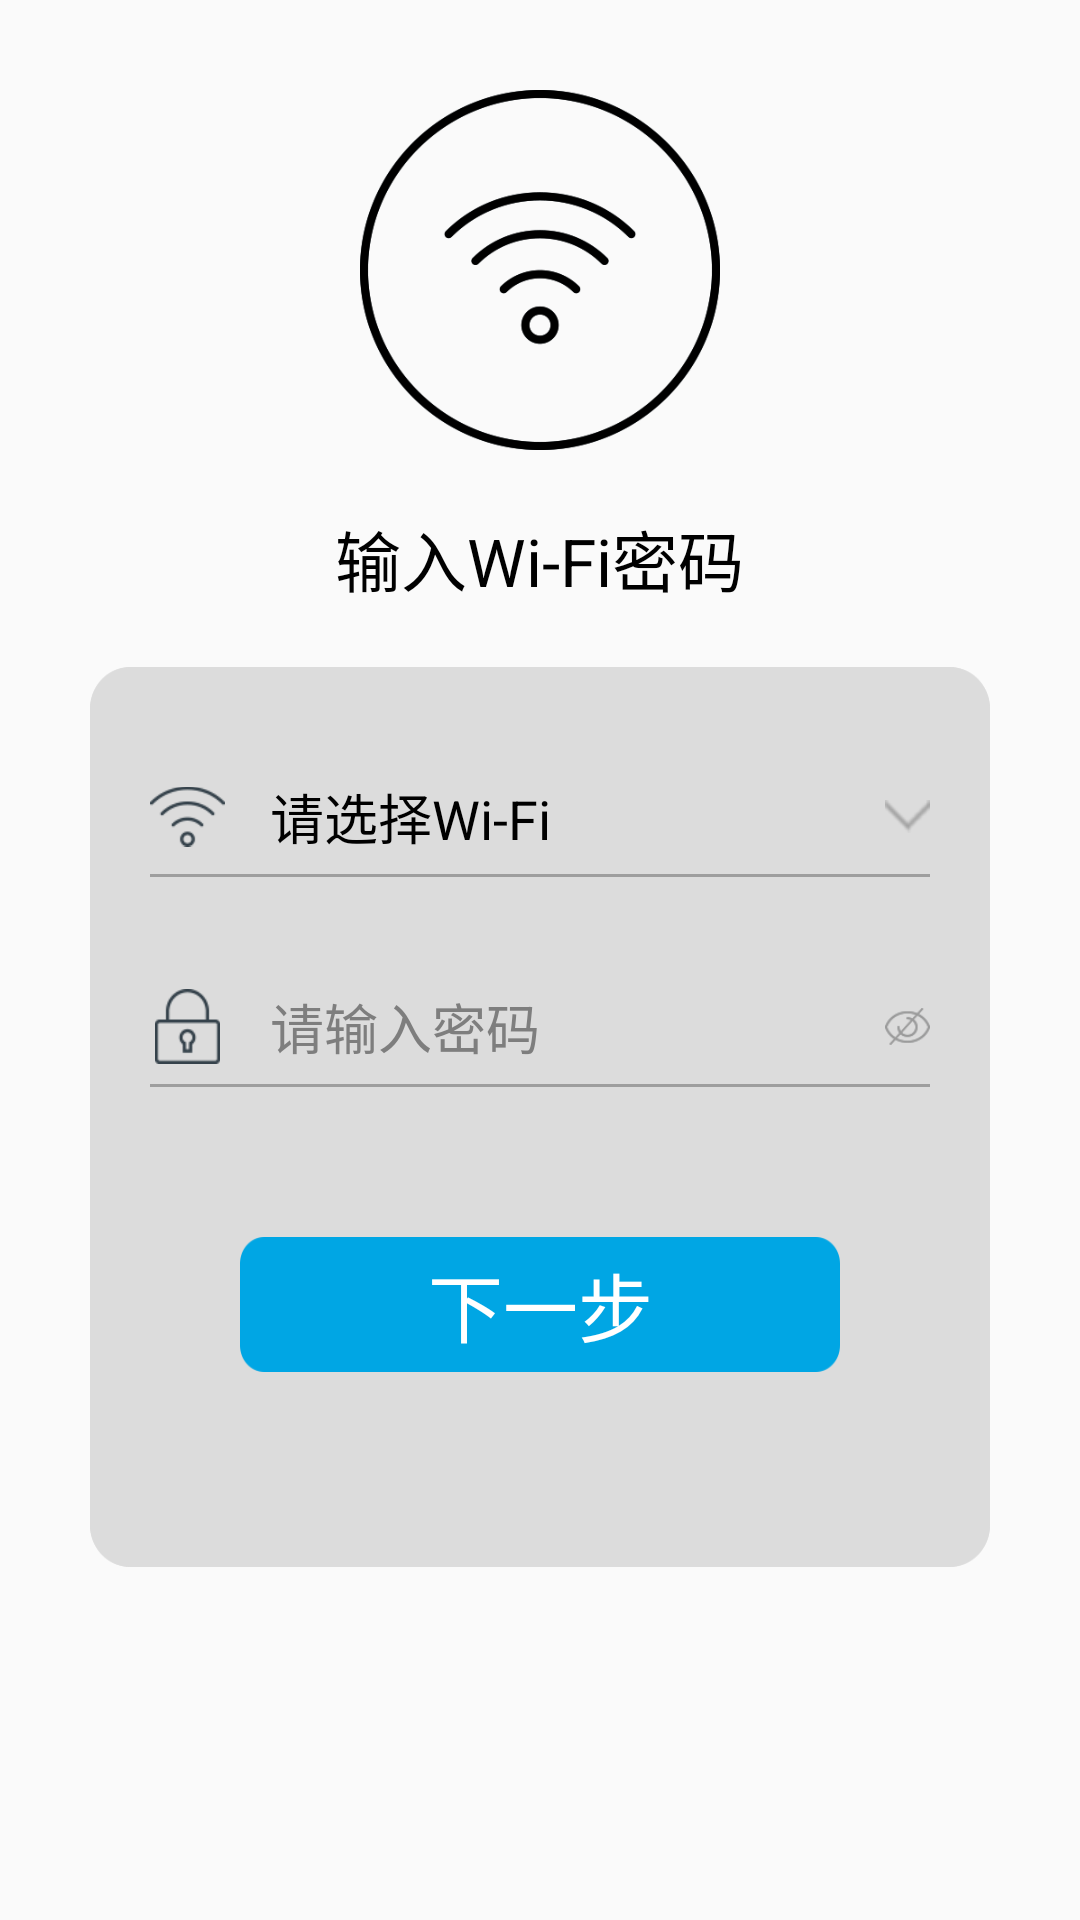

Named icons in this screenshot (1080×1920) and their bounding boxes, (left=x1, top=y1, right=x2, bottom=y2):
more select down: (left=885, top=801, right=930, bottom=830)
show wifi password: (left=885, top=1008, right=930, bottom=1045)
wifi pass word lock: (left=155, top=989, right=220, bottom=1064)
